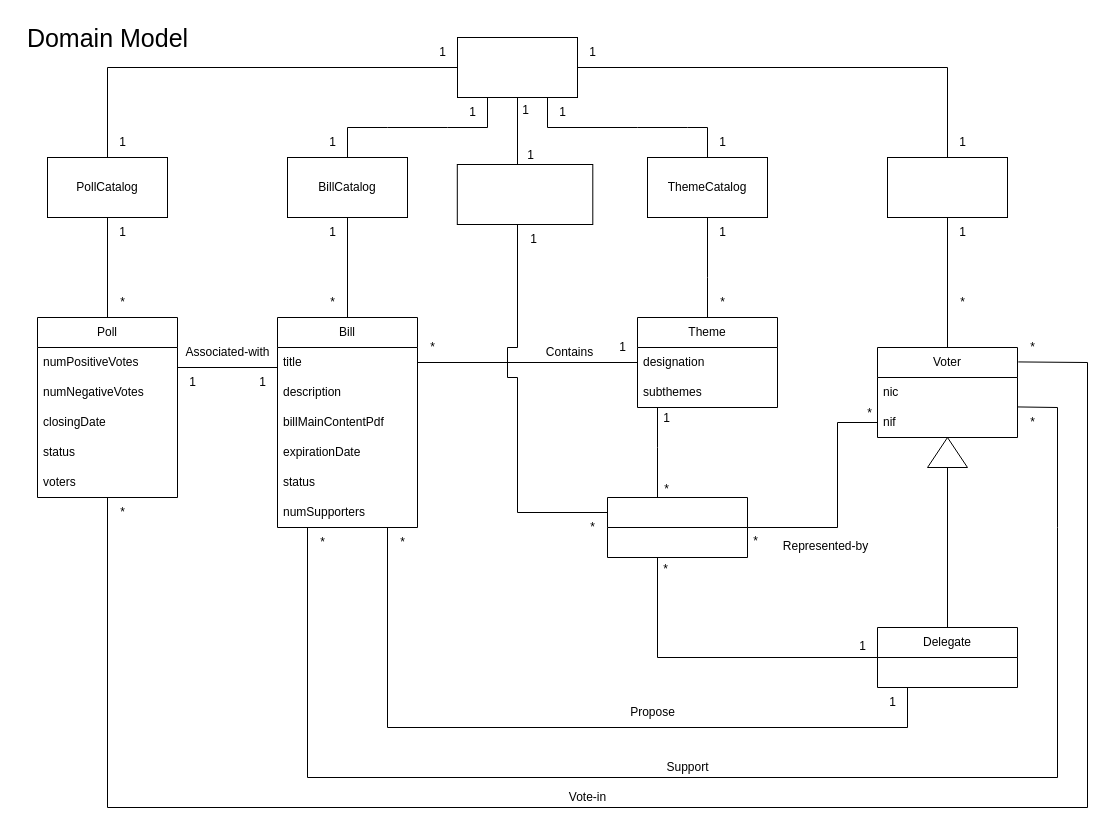
This 1106x829 diagram has some shape labels left out. Each missing label, with the centre of its shape:
"CitizenCatalog" goes at pixel 947 187.
"DelegateTheme" goes at pixel 677 527.
"DelegateThemeCatalog" goes at pixel 524 194.
"Democracia2.0" goes at pixel 517 67.
